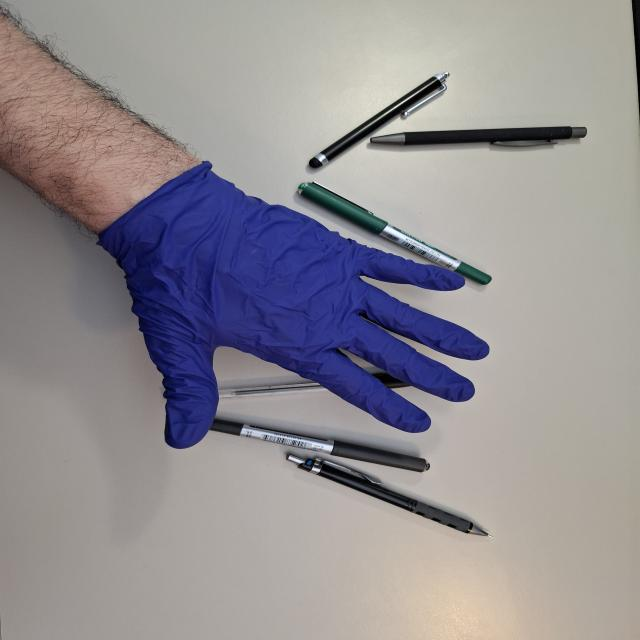glove_on: (89, 157, 494, 451)
